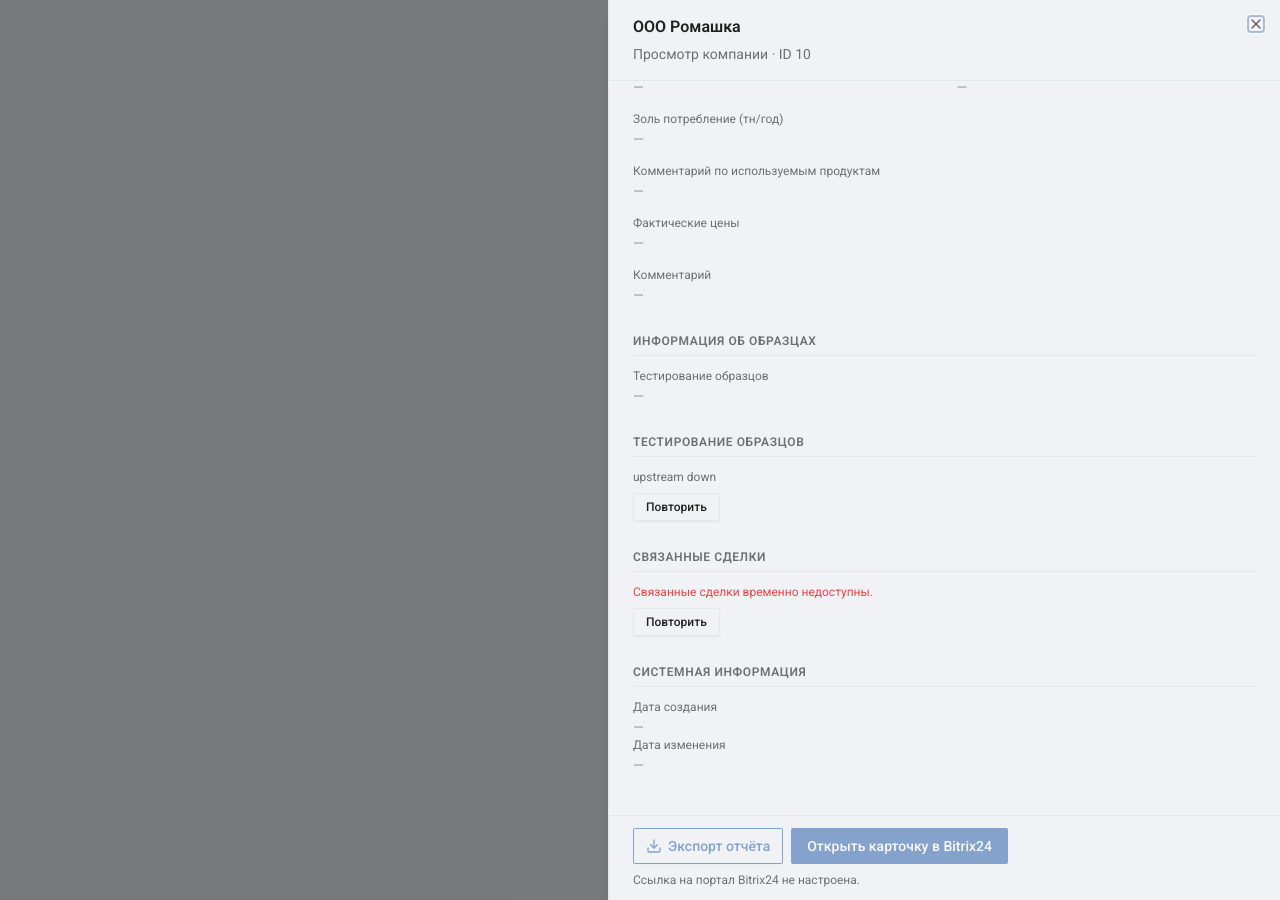
Test: Company Preview — Циклы тестирования (§8.16) › initial Samples failure → explicit error + retry performs a real request; failure after success preserves prior cycles with stale disclosure
(page scrolled)
Expected: the text "upstream down" is shown, left=633, top=470, right=716, bottom=484
Click the button "Повторить" below "upstream down" at {"x": 676, "y": 507}, box left=633, top=493, right=720, bottom=521
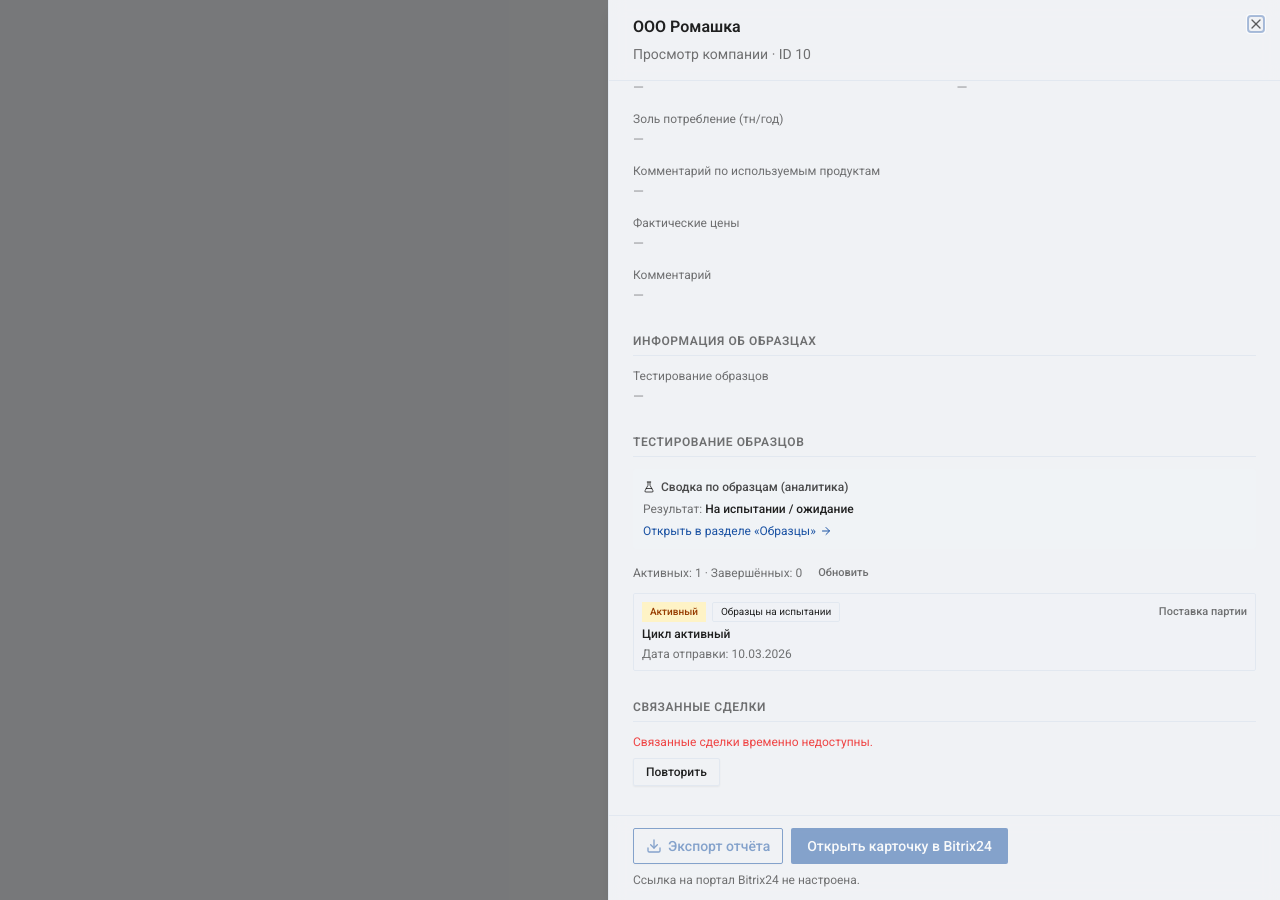
Expected: the text "Цикл активный" is shown, left=642, top=627, right=730, bottom=641
Click the button "Обновить" at {"x": 843, "y": 573}, box left=810, top=561, right=876, bottom=585
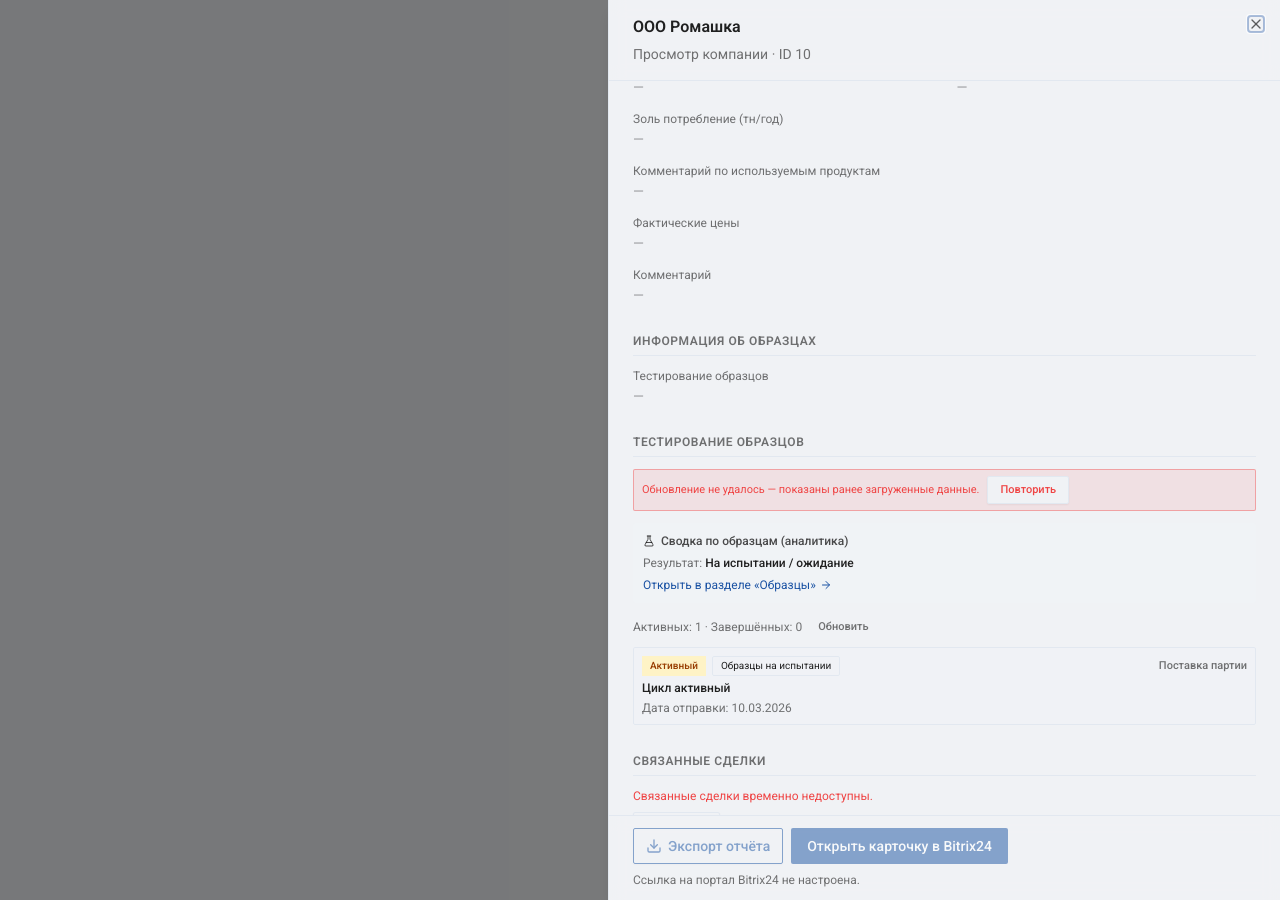
Expected: the text "Цикл активный" is shown, left=642, top=681, right=730, bottom=695
Expected: the text "Обновление не удалось — показаны ранее загруженные данные." is shown, left=642, top=483, right=979, bottom=497
